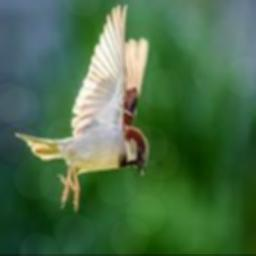Sparrow: (14, 4, 151, 210)
